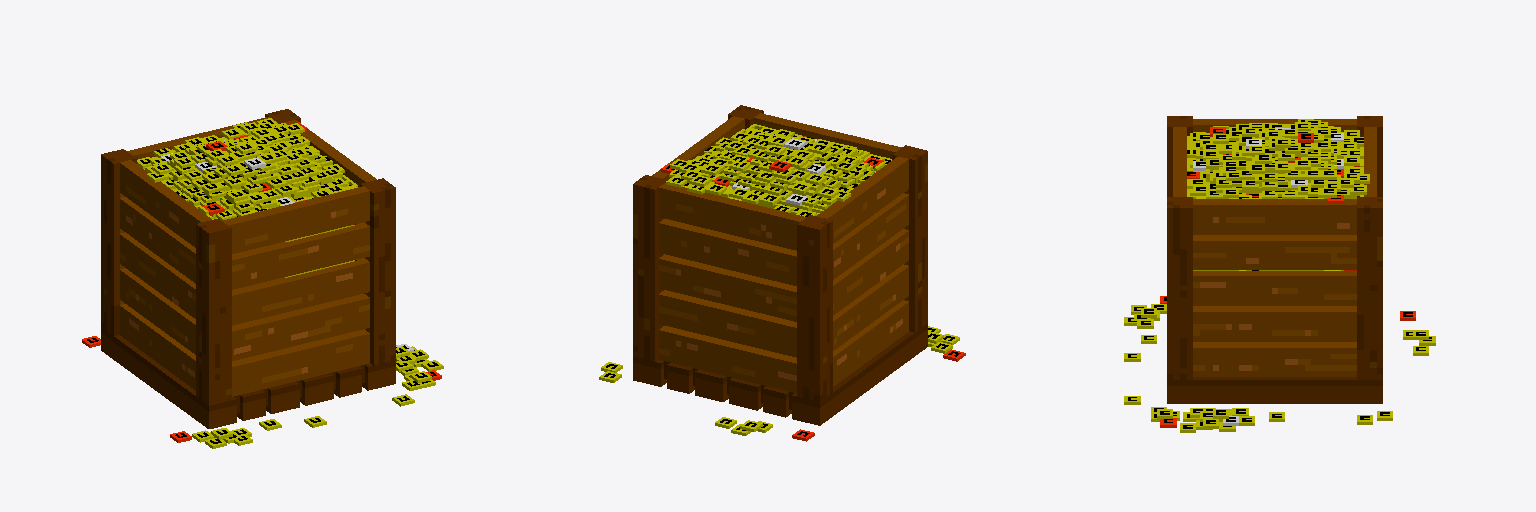
3 renders of one model, left to right at view 1: azimuth 30°, elevation 25°; view 2: azimuth 150°, elevation 25°; view 3: azimuth 270°, elevation 25°, orthographic.
Bounding box in the file's own units: 97 × 74 × 95.
1 materials, 1 textured.